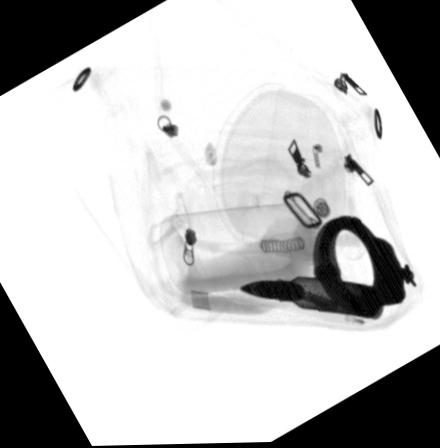Bullet: (238, 276, 383, 318)
HandCuffs: (312, 213, 417, 318)
